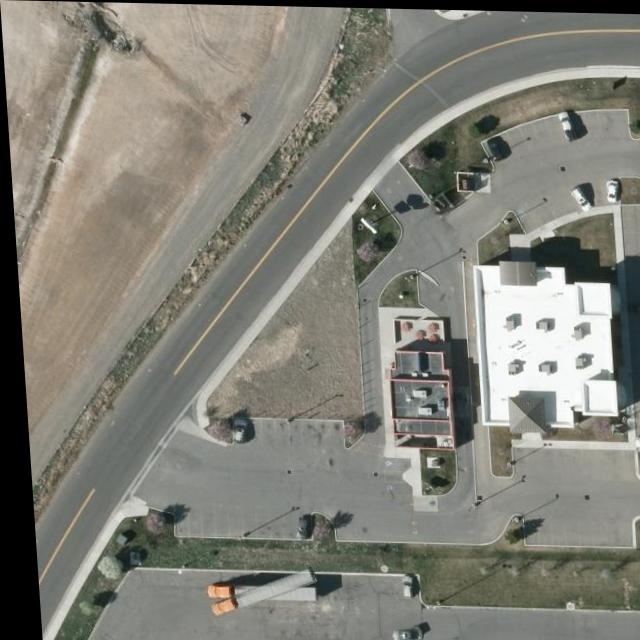vehicle: (197, 574, 311, 612), (556, 109, 578, 140), (568, 183, 591, 211), (383, 621, 416, 640), (227, 415, 243, 444), (289, 516, 304, 539), (392, 575, 407, 597), (603, 178, 617, 201), (629, 432, 640, 445)
